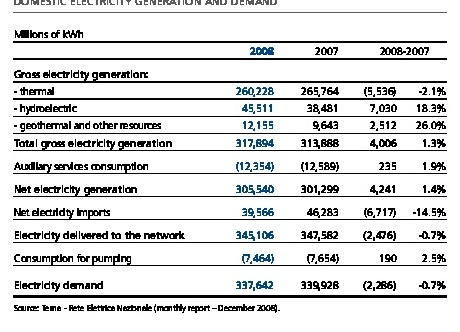table: (0, 0, 460, 332)
